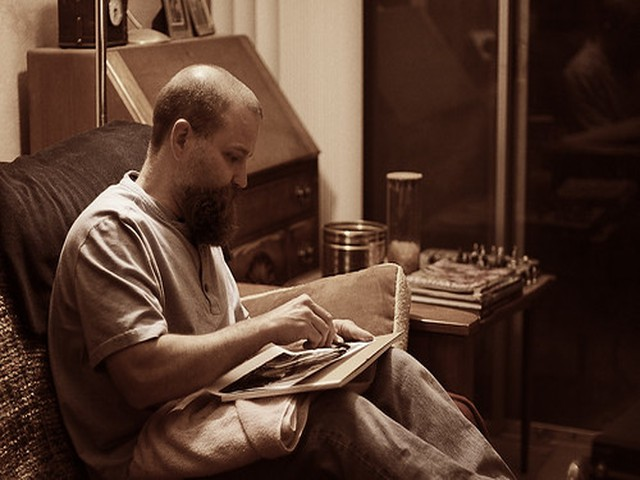Person: (45, 64, 451, 457)
